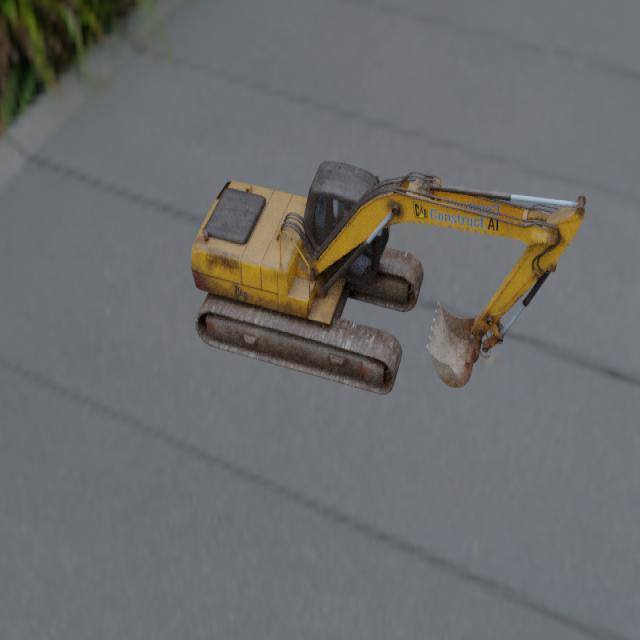excavator: (190, 160, 586, 395)
